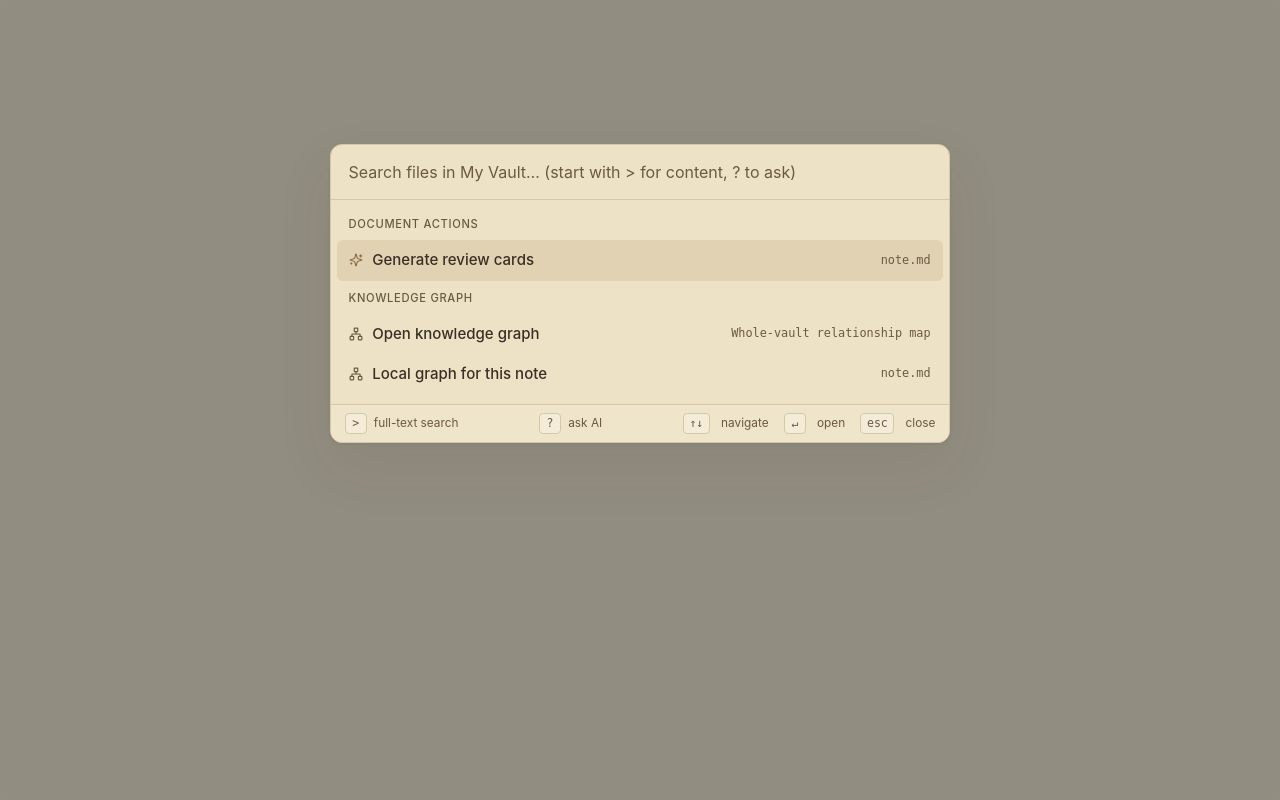
Test: CommandPalette — `?` ask mode (Phase 3) › renders the no-provider message when the user asks a question without a configured provider
Type "? what is this?" into the dropdown with placeholder "Search files".
click(640, 173); type("? what is this?")  # box x1=331 y1=145 x2=949 y2=200
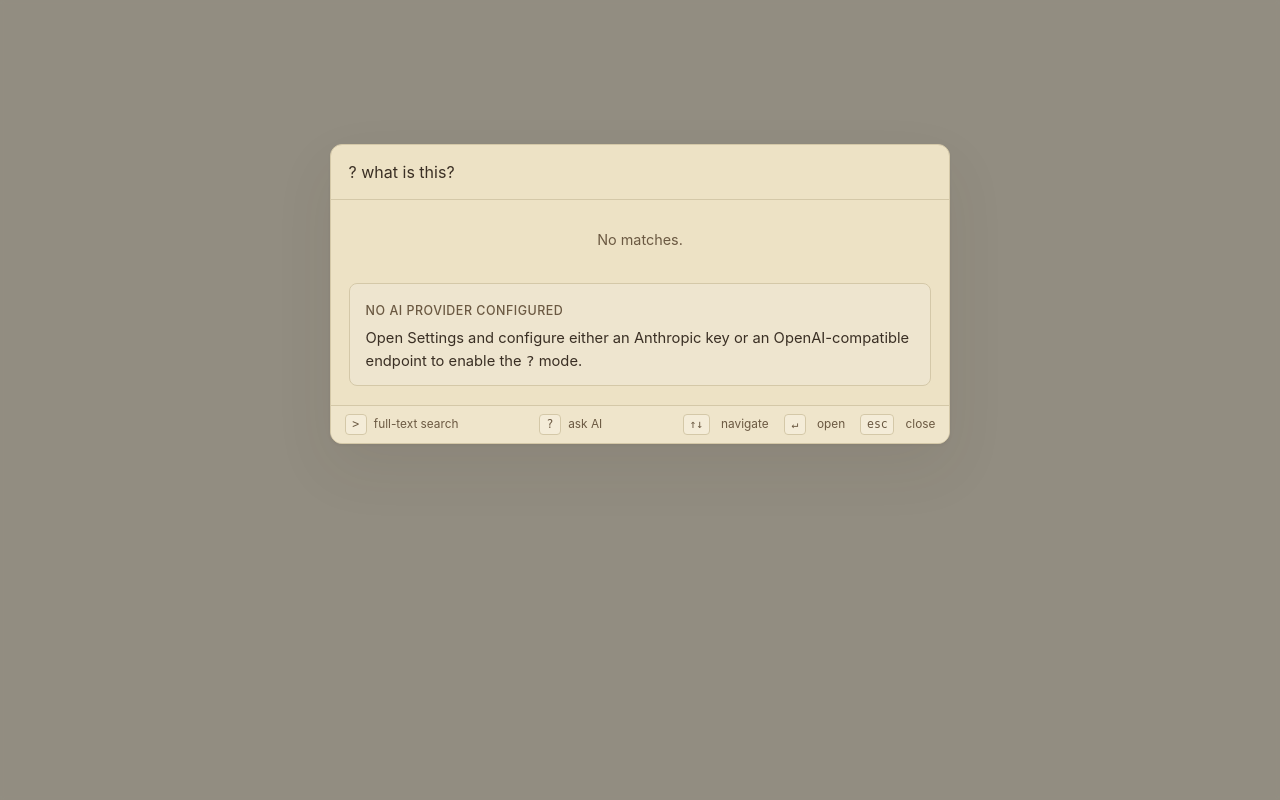
Check: the text "No AI provider configured" is shown, box x1=366 y1=302 x2=563 y2=321
